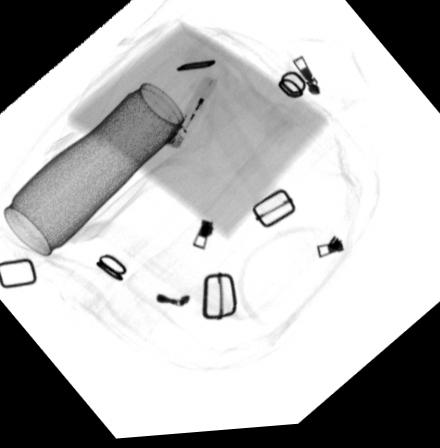Lighter: (162, 78, 217, 151)
